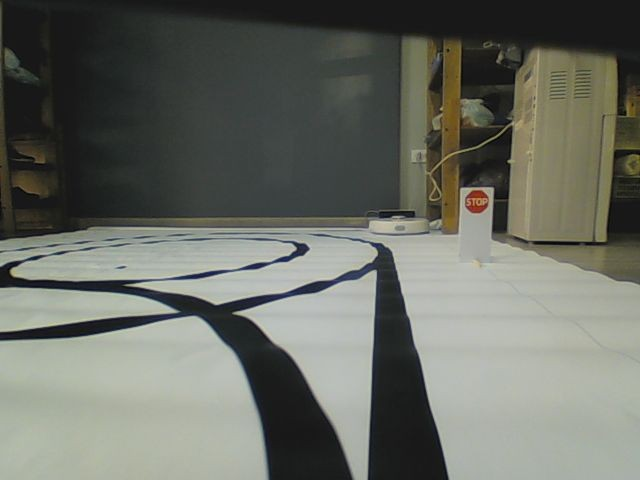Stop: (464, 189, 491, 215)
